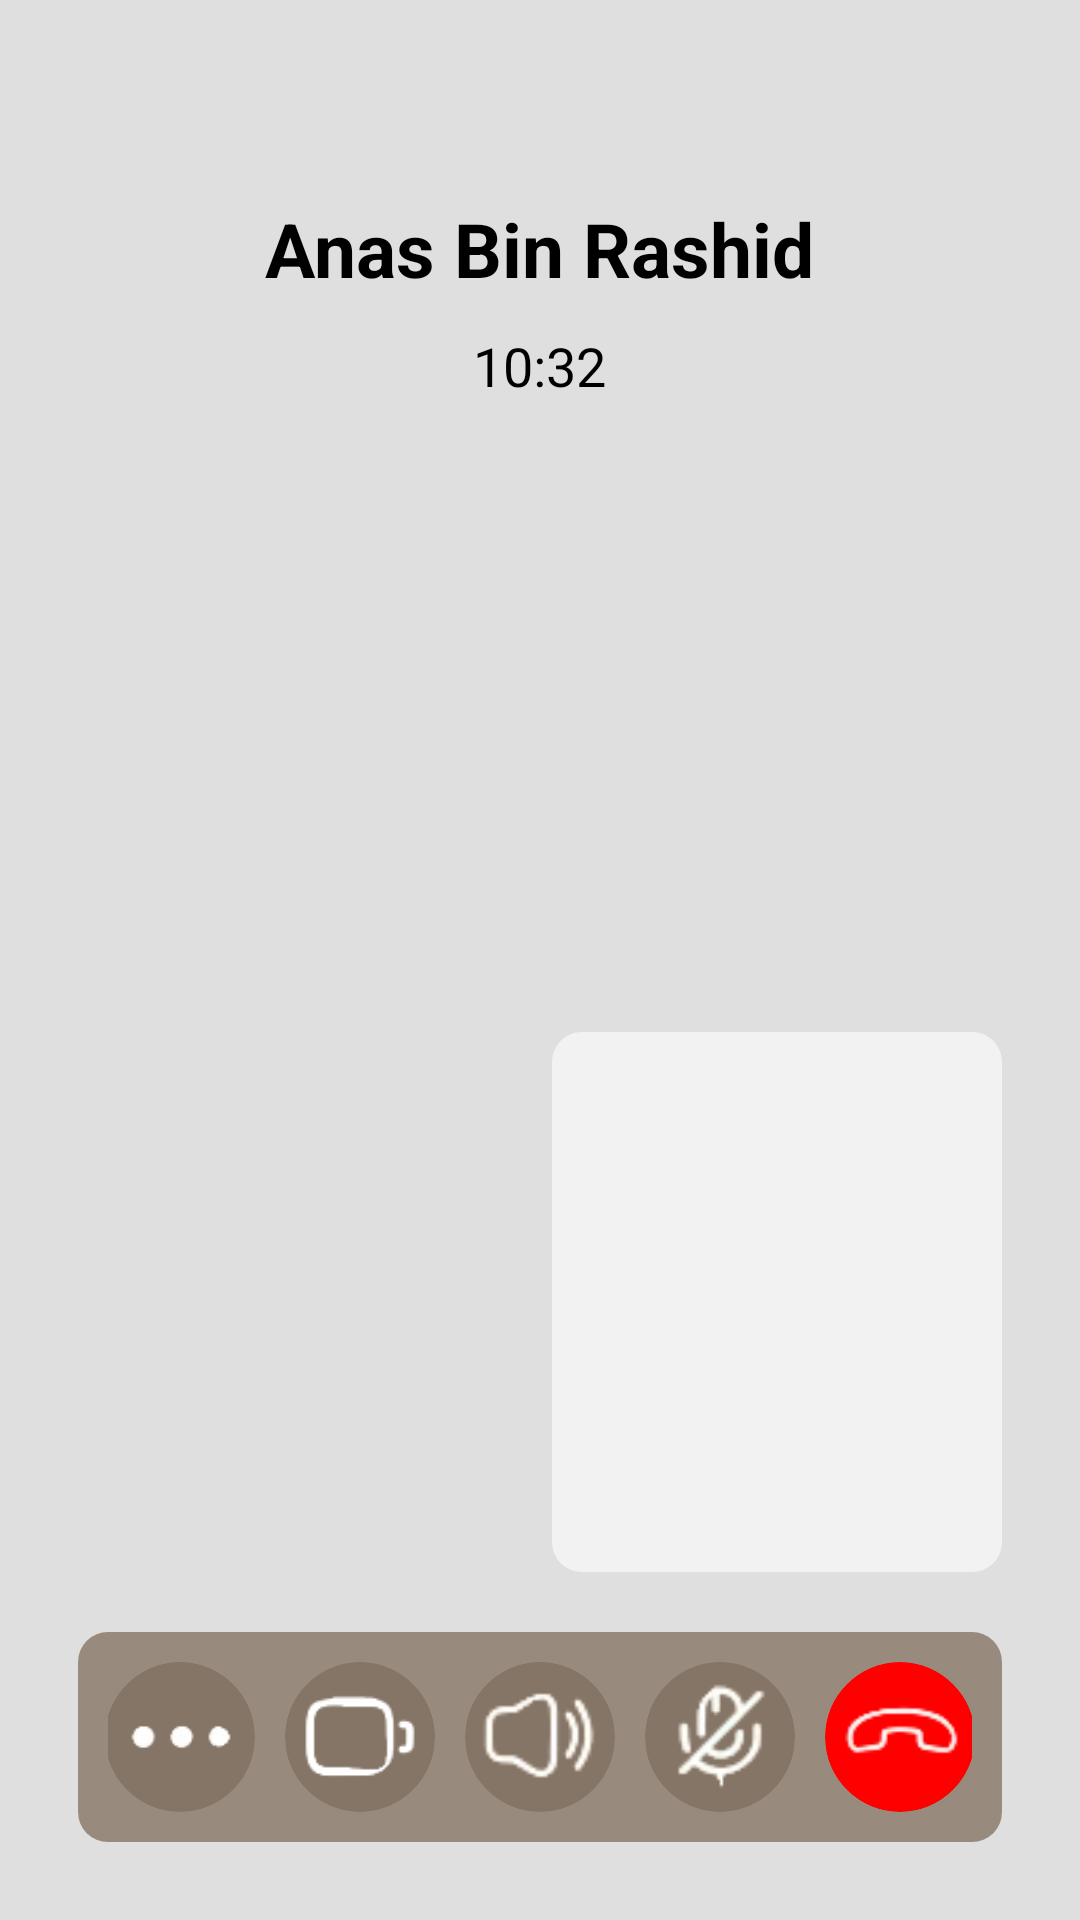

Named icons in this screenshot (1080 × 1920) and their centers, point (x, y):
End Call: point (898, 1737)
More Options: point (181, 1737)
Mute: point (720, 1737)
Speaker: point (540, 1737)
Video: point (360, 1737)
